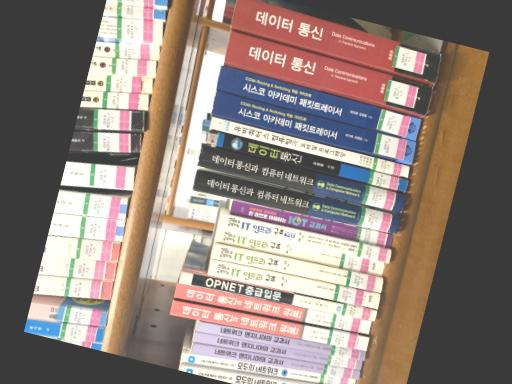book-spine: (223, 30, 434, 115), (230, 0, 440, 81), (216, 65, 421, 141), (211, 89, 417, 163), (199, 145, 404, 213), (193, 169, 399, 233), (209, 116, 410, 177), (214, 131, 408, 191), (173, 282, 371, 334), (169, 299, 368, 350), (179, 271, 376, 322), (207, 257, 381, 309), (211, 242, 383, 292), (218, 213, 391, 262), (215, 225, 384, 275), (230, 199, 392, 247), (195, 320, 366, 360), (192, 330, 362, 370), (190, 342, 360, 379), (179, 352, 355, 384), (178, 365, 314, 384)
